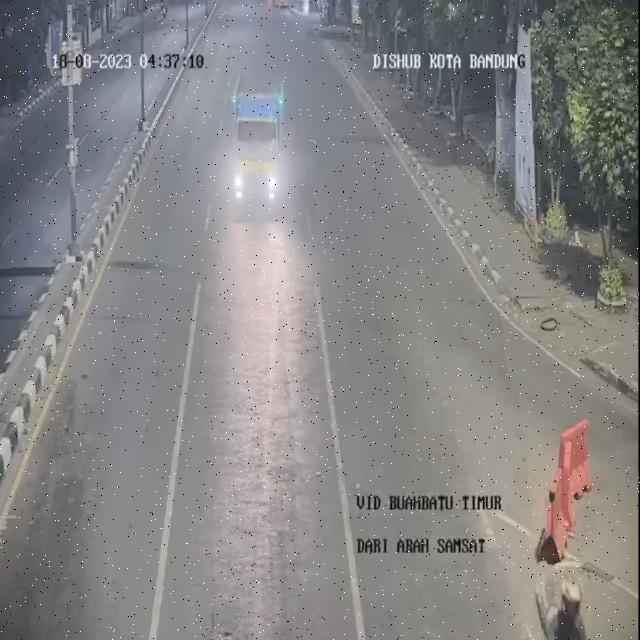cars: (232, 81, 288, 226)
